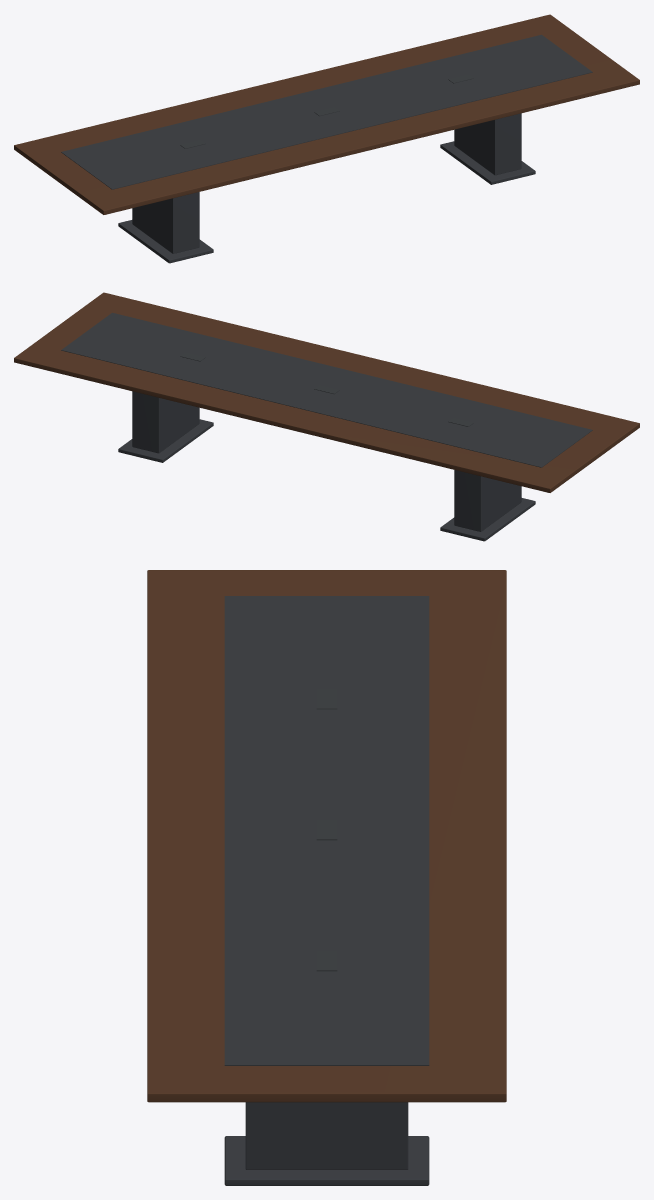
File: prop_table_boardroom_l480.glb
The picture shows the model from 3 angles, top to bottom: view 1: azimuth 30°, elevation 25°; view 2: azimuth 150°, elevation 25°; view 3: azimuth 270°, elevation 25°; orthographic projection. The views are drawn at different scales.
Visible parts, largest first — view 1: Table; view 2: Table; view 3: Table.
Part boxes in pixels (x1,y1,x2,y2): Table: (14,14,639,263); Table: (14,292,639,541); Table: (147,570,506,1185).
Size of what is drawn, in the model's own units: 4.79 by 0.758 by 1.39.
